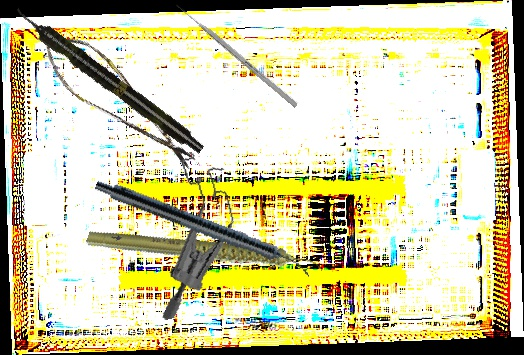Handpiece: (84, 182, 326, 326), (10, 2, 208, 158), (91, 176, 316, 280)
Micro Scissor: (21, 12, 212, 184)
Pusher: (174, 2, 299, 108)
Speculum: (125, 145, 257, 321)
